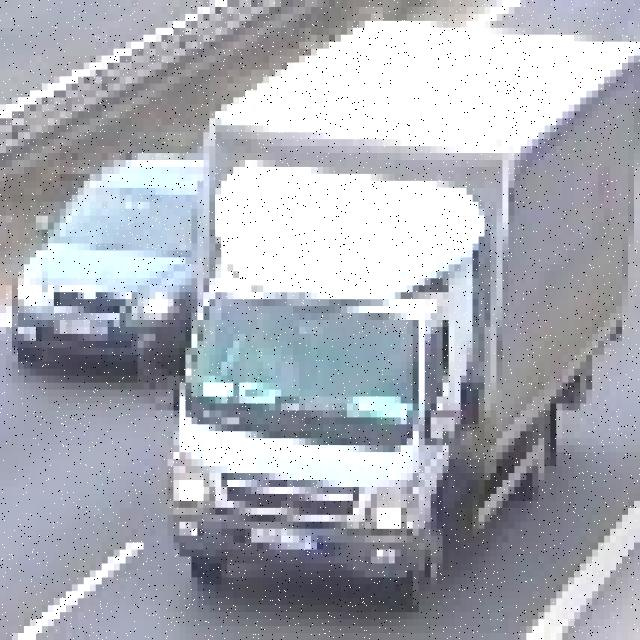truck: (162, 7, 634, 605)
